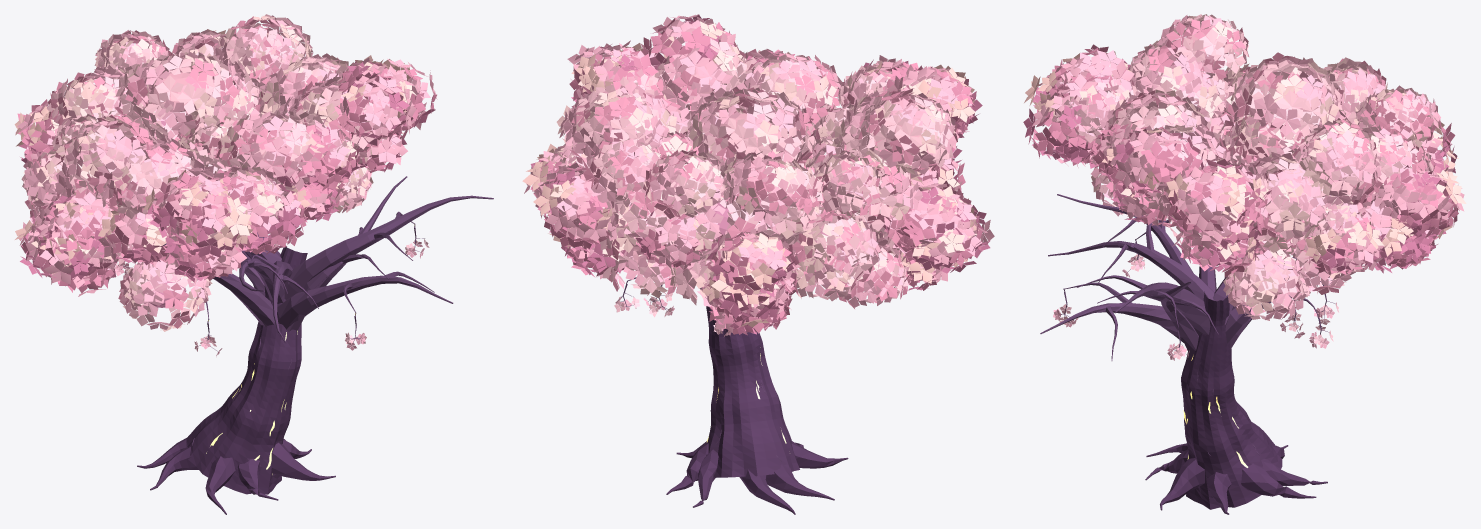
Rendered from sakura_hero_r18_eco.glb.
3 renders of one model, left to right at view 1: azimuth 30°, elevation 25°; view 2: azimuth 150°, elevation 25°; view 3: azimuth 270°, elevation 25°, orthographic. The views are drawn at different scales.
Visible parts, largest first — view 1: R17b_outer_eco, Sakura_petal_pink, Sakura_petal_blush, Trunk_bark_plumblack, Sakura_petal_warm_rose, Branches_plum, Sakura_petal_cream, R17b_bridge_eco, R17b_skirt_eco, Canopy_peach; view 2: Sakura_petal_blush, Sakura_petal_pink, R17b_outer_eco, Sakura_petal_warm_rose, Trunk_bark_plumblack, Sakura_petal_cream, R17b_bridge_eco, R17b_skirt_eco, Canopy_peach; view 3: R17b_outer_eco, Sakura_petal_pink, Sakura_petal_blush, Trunk_bark_plumblack, Sakura_petal_warm_rose, Branches_plum, Sakura_petal_cream, R17b_bridge_eco, R17b_skirt_eco, Canopy_peach.
Part boxes in pixels (bbox=[...]): R17b_outer_eco: bbox=[14, 29, 437, 284]; Sakura_petal_pink: bbox=[24, 17, 424, 356]; Sakura_petal_blush: bbox=[21, 14, 429, 351]; Trunk_bark_plumblack: bbox=[137, 219, 409, 514]; Sakura_petal_warm_rose: bbox=[25, 15, 390, 328]; Branches_plum: bbox=[121, 176, 493, 445]; Sakura_petal_cream: bbox=[29, 15, 373, 331]; R17b_bridge_eco: bbox=[38, 55, 414, 265]; R17b_skirt_eco: bbox=[43, 132, 407, 296]; Canopy_peach: bbox=[82, 54, 354, 195]; Sakura_petal_blush: bbox=[551, 38, 958, 336]; Sakura_petal_pink: bbox=[548, 39, 959, 335]; R17b_outer_eco: bbox=[522, 14, 994, 327]; Sakura_petal_warm_rose: bbox=[564, 41, 959, 308]; Trunk_bark_plumblack: bbox=[666, 306, 848, 514]; Sakura_petal_cream: bbox=[548, 44, 960, 298]; R17b_bridge_eco: bbox=[547, 40, 965, 318]; R17b_skirt_eco: bbox=[561, 125, 962, 335]; Canopy_peach: bbox=[610, 64, 933, 282]; R17b_outer_eco: bbox=[1023, 44, 1466, 274]; Sakura_petal_pink: bbox=[1051, 15, 1440, 360]; Sakura_petal_blush: bbox=[1055, 14, 1433, 359]; Trunk_bark_plumblack: bbox=[1145, 291, 1327, 514]; Sakura_petal_warm_rose: bbox=[1070, 19, 1438, 319]; Branches_plum: bbox=[1040, 194, 1326, 455]; Sakura_petal_cream: bbox=[1052, 14, 1436, 315]; R17b_bridge_eco: bbox=[1050, 70, 1442, 261]; R17b_skirt_eco: bbox=[1056, 137, 1438, 277]; Canopy_peach: bbox=[1090, 32, 1413, 302].
Size of the model in its own units: 27.56 by 25.89 by 25.17.
